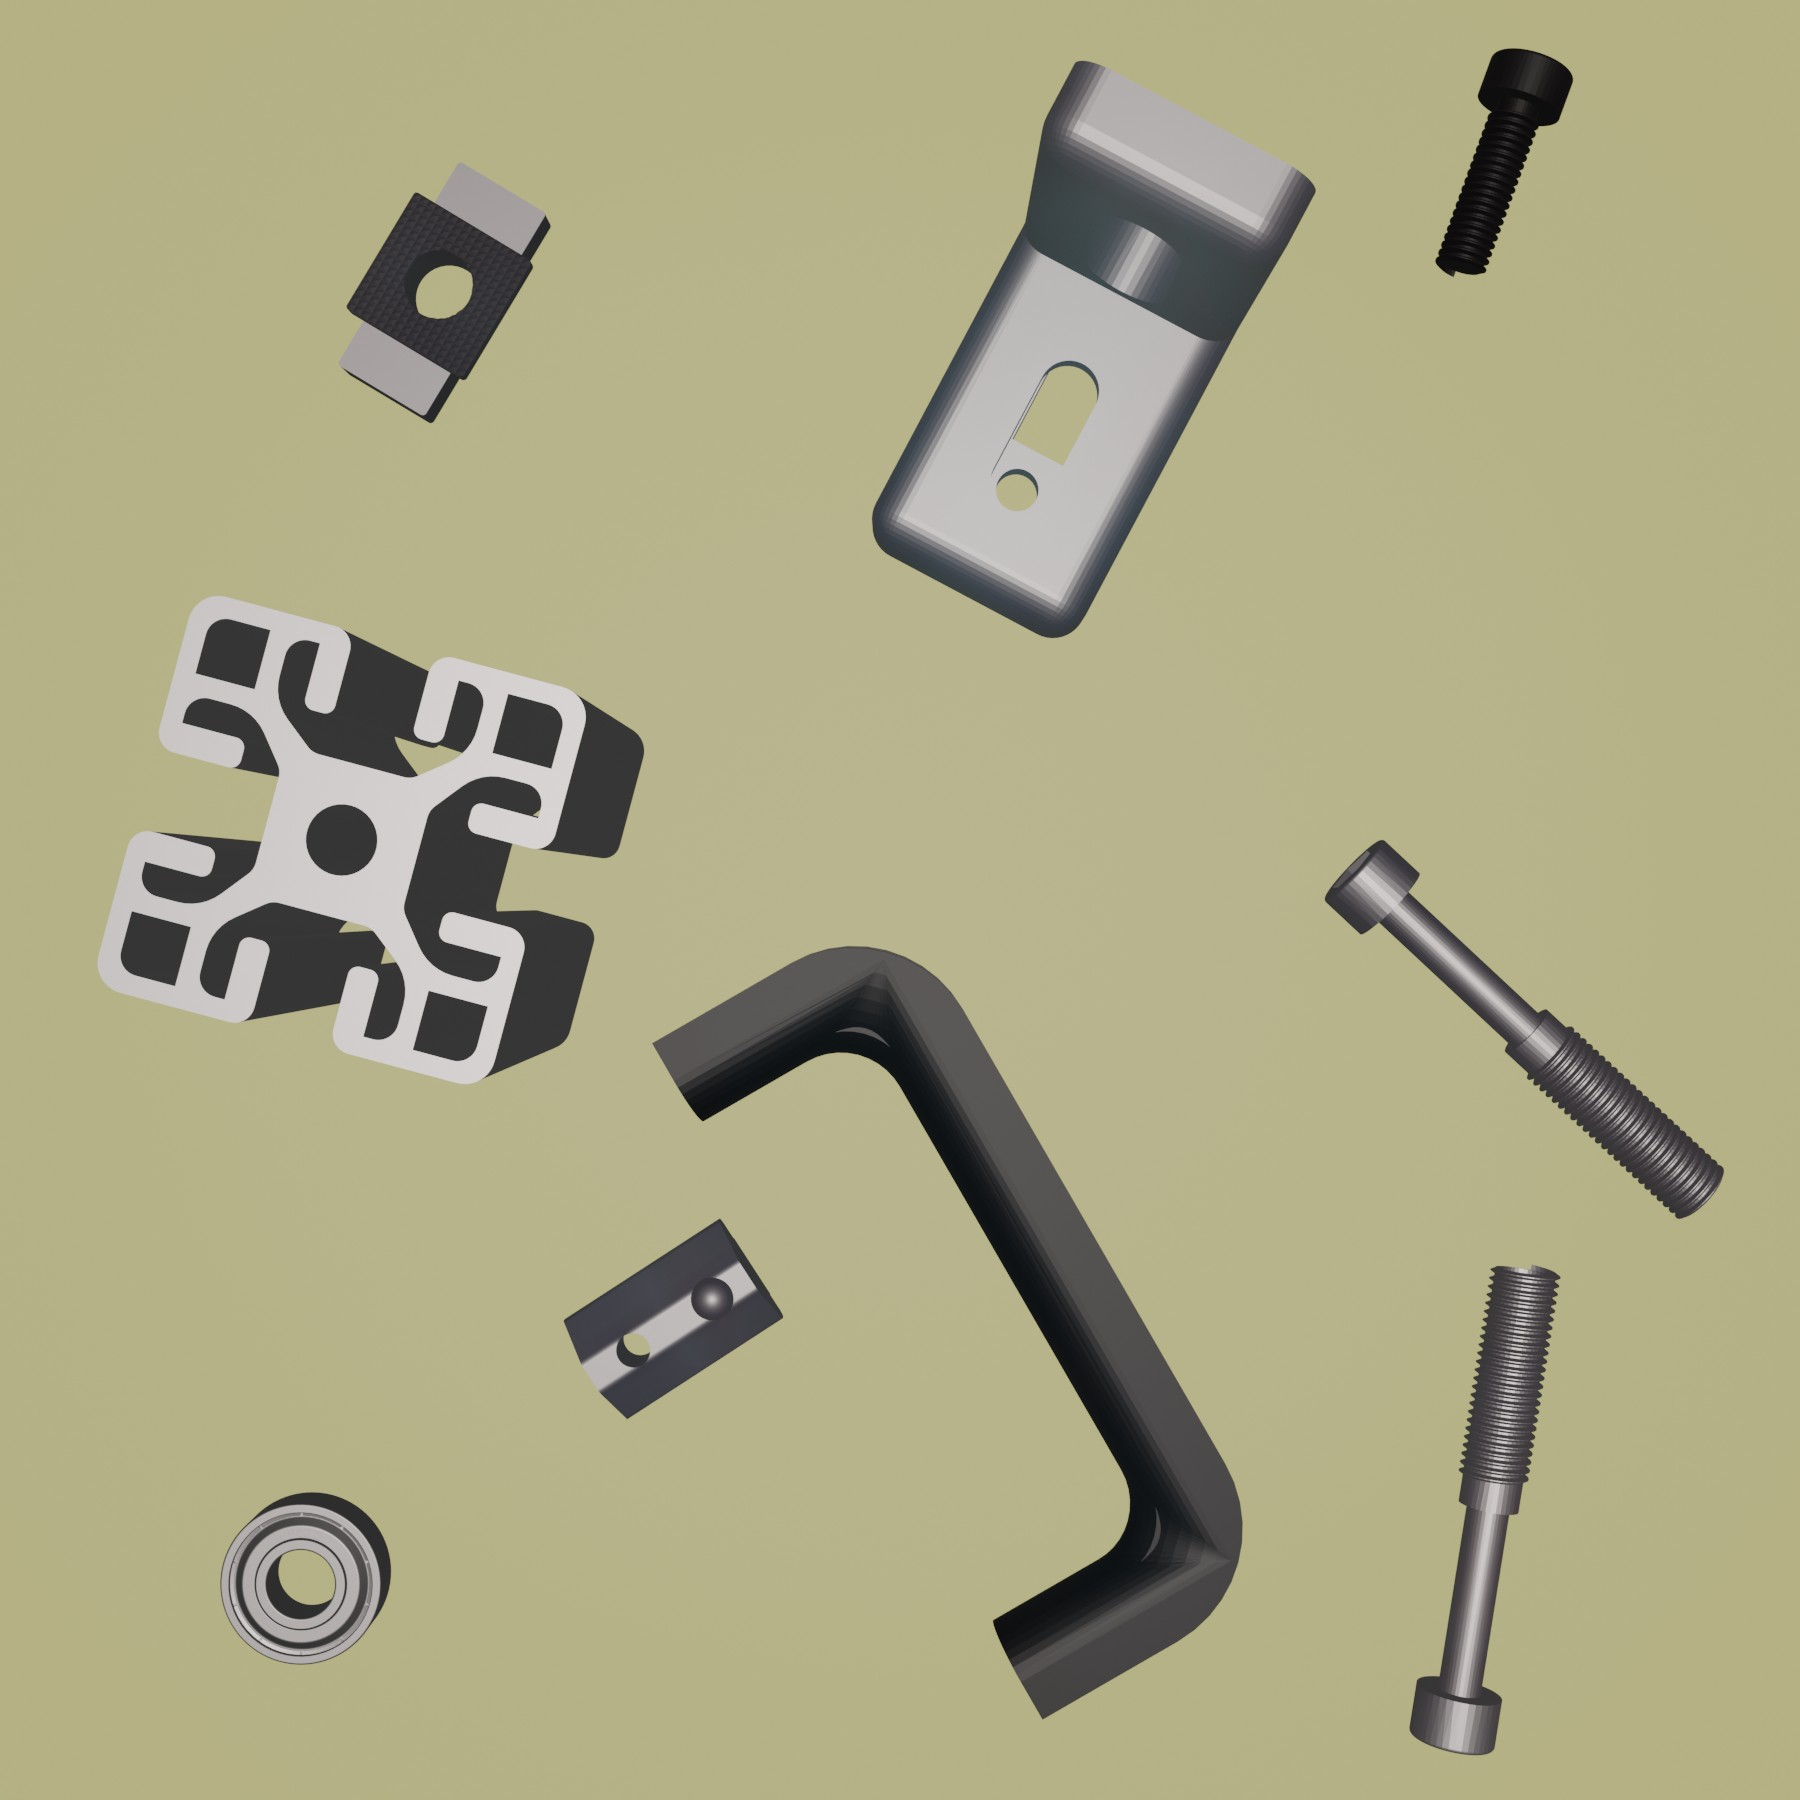Aluminium Extension: (97, 592, 646, 1088)
Ball Bearing: (216, 1487, 392, 1666)
Multiwinkel: (870, 58, 1317, 640)
Pull Handle: (651, 946, 1243, 1718)
Shoulder Socket Head Cap Screw: (1324, 839, 1727, 1223), (1409, 1263, 1561, 1759)
Socket Head Cap Screw: (1432, 48, 1574, 280)
T Nut Square: (338, 162, 551, 427)
T Spring Nut: (562, 1213, 785, 1418)
